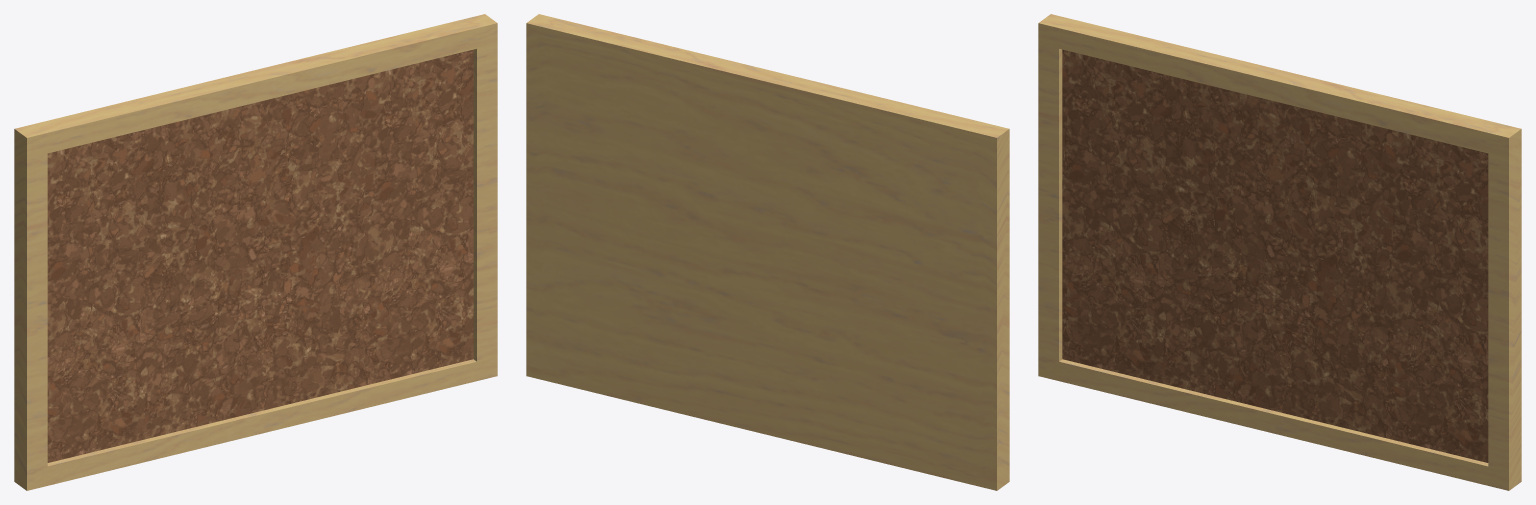
Rendered from corkboard.fbx.
The picture shows the model from 3 angles, left to right: view 1: azimuth 30°, elevation 25°; view 2: azimuth 150°, elevation 25°; view 3: azimuth 330°, elevation 25°; orthographic projection.
Parts seen in each view (by area): view 1: corkBoard; view 2: corkBoard; view 3: corkBoard.
Part boxes in pixels (x1=…): corkBoard: x1=14, y1=14, x2=497, y2=490; corkBoard: x1=526, y1=14, x2=1009, y2=490; corkBoard: x1=1038, y1=14, x2=1521, y2=490.
Bounding box in the file's own units: 179 × 128 × 8.22.
